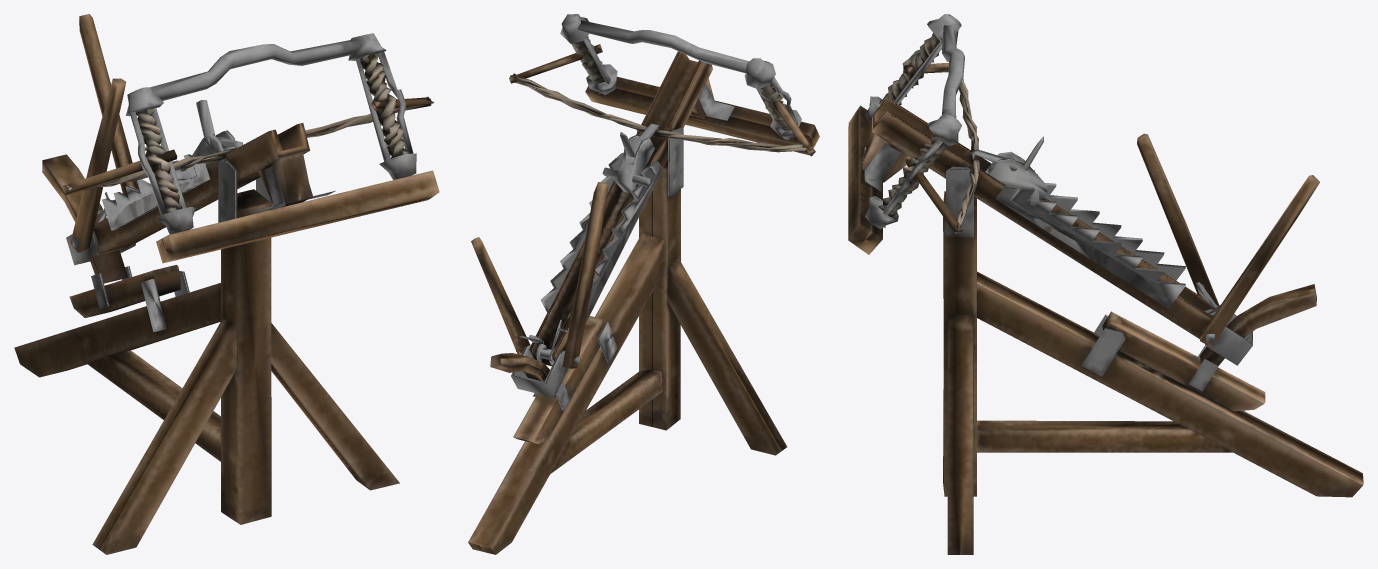
The model's file is ballista.lod0.glb.
3 renders of one model, left to right at view 1: azimuth 30°, elevation 25°; view 2: azimuth 150°, elevation 25°; view 3: azimuth 270°, elevation 25°, orthographic. The views are drawn at different scales.
Parts seen in each view (by area): view 1: defaultMaterial; view 2: defaultMaterial; view 3: defaultMaterial.
Boxes of the visible parts, x1,y1,x2,y2 form: defaultMaterial: (14, 14, 439, 554); defaultMaterial: (468, 14, 819, 554); defaultMaterial: (848, 14, 1363, 554).
Size of the model in its own units: 1.83 by 2.23 by 2.4.
1 material, 1 textured.
